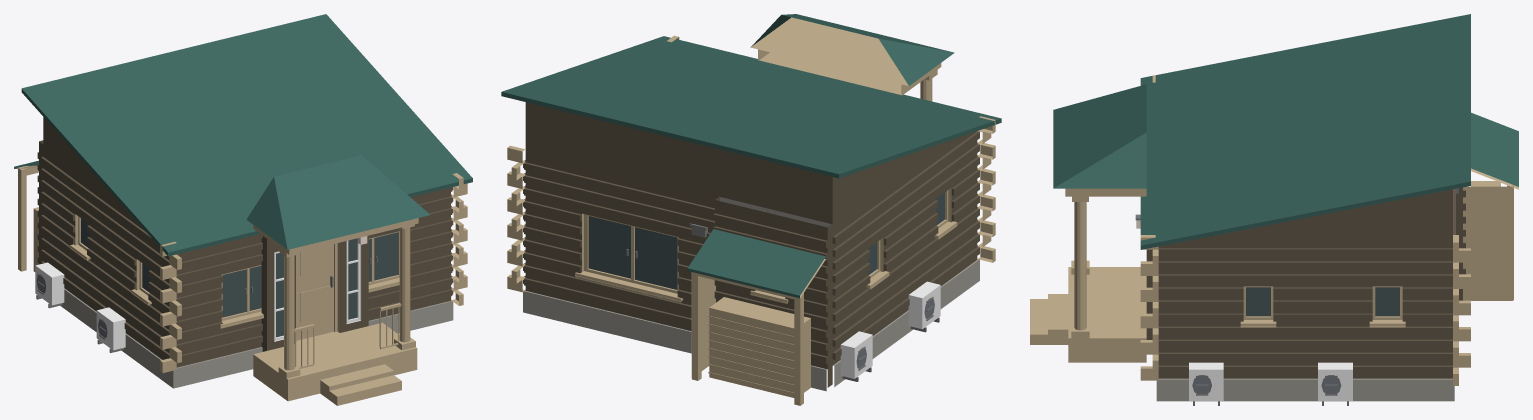
File: mashup-hut_log-top-prebuilt_close.fbx
The picture shows the model from 3 angles, left to right: view 1: azimuth 30°, elevation 25°; view 2: azimuth 150°, elevation 25°; view 3: azimuth 270°, elevation 25°; orthographic projection. The views are drawn at different scales.
Parts seen in each view (by area): view 1: a2015.hut_log.close; view 2: a2015.hut_log.close; view 3: a2015.hut_log.close.
Part boxes in pixels (bbox=[...]): a2015.hut_log.close: bbox=[14, 14, 472, 405]; a2015.hut_log.close: bbox=[501, 14, 1001, 405]; a2015.hut_log.close: bbox=[1030, 14, 1518, 405].
Size of the model in its own units: 6.64 by 4.21 by 8.14.
